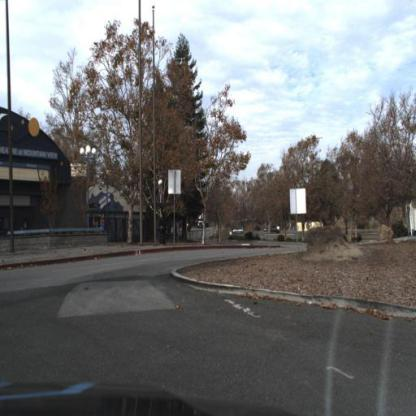car: (234, 228, 245, 236)
truck: (199, 214, 211, 229)
